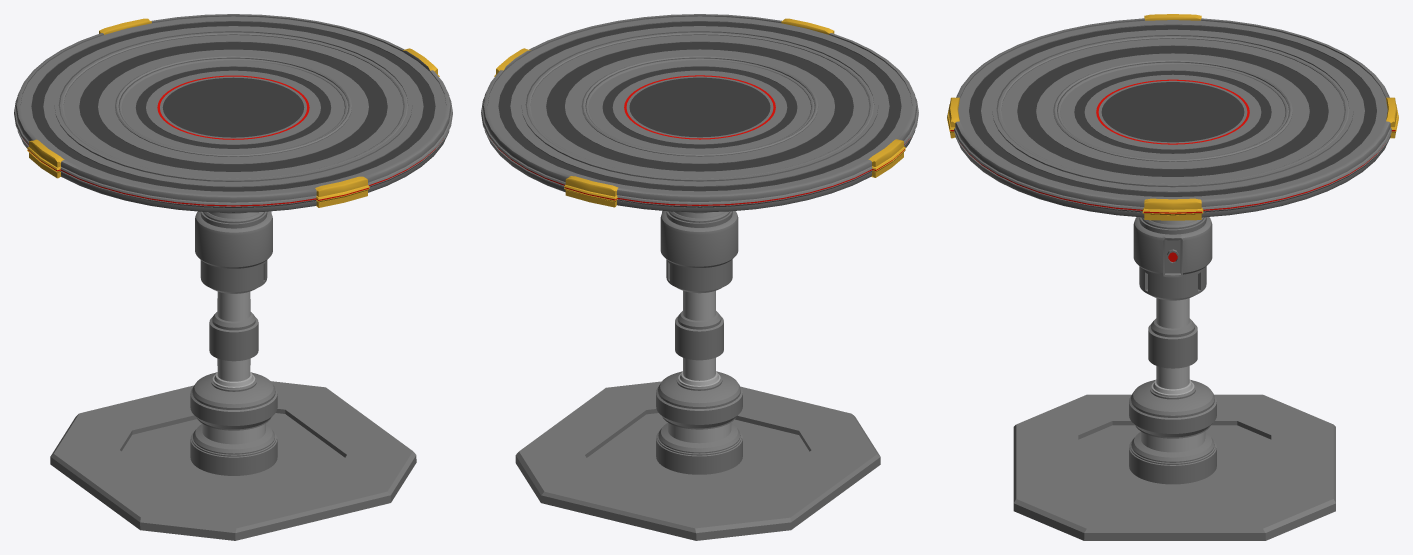
File: metalPlatformV5.fbx
3 renders of one model, left to right at view 1: azimuth 30°, elevation 25°; view 2: azimuth 150°, elevation 25°; view 3: azimuth 270°, elevation 25°, orthographic.
Parts seen in each view (by area): view 1: Cylinder.002, Oter, Middle1, CenterV2; view 2: Cylinder.002, Oter, Middle1, CenterV2; view 3: Cylinder.002, Oter, Middle1, CenterV2.
Part boxes in pixels (box(x1,y1,x2,y2)): Cylinder.002: box(50, 211, 416, 540); Oter: box(14, 14, 452, 212); Middle1: box(59, 32, 407, 178); CenterV2: box(118, 58, 348, 154); Cylinder.002: box(515, 210, 880, 540); Oter: box(481, 14, 918, 212); Middle1: box(525, 32, 874, 178); CenterV2: box(585, 58, 814, 154); Cylinder.002: box(1013, 217, 1335, 540); Oter: box(947, 14, 1398, 220); Middle1: box(996, 36, 1349, 183); CenterV2: box(1057, 62, 1288, 159).
Size of the model in its own units: 322 by 287 by 322.
